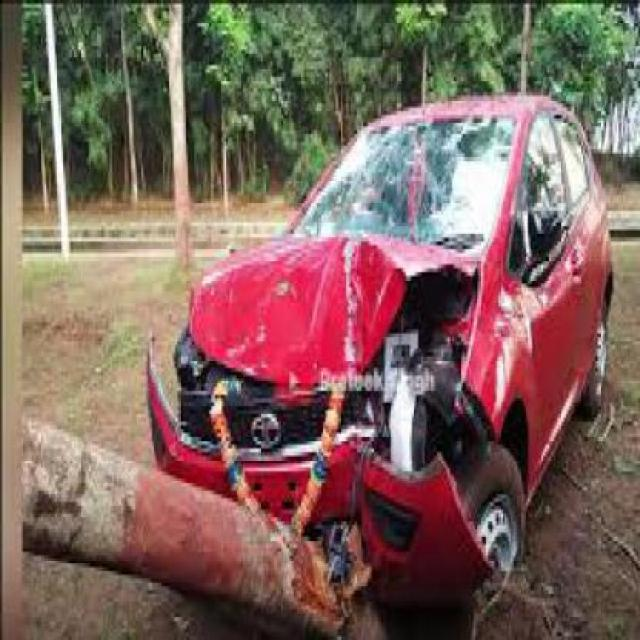Front-Windscreen-Damage: (353, 116, 510, 239)
bonnet-dent: (163, 234, 480, 430)
